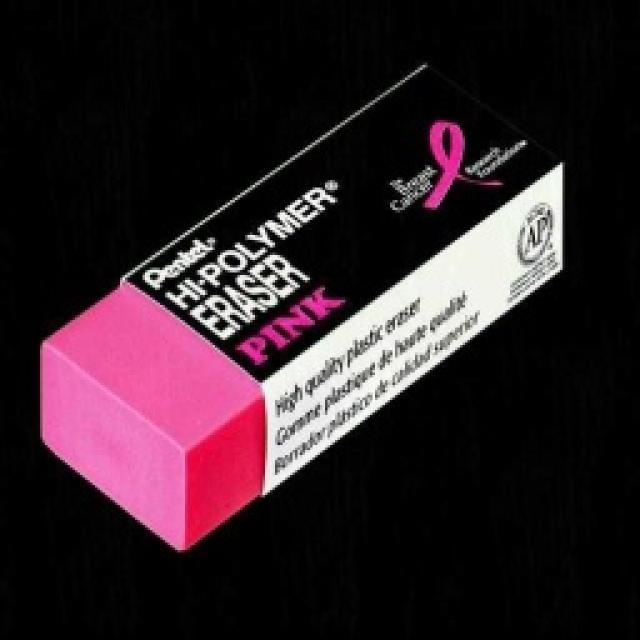Silgi: (40, 61, 568, 551)
